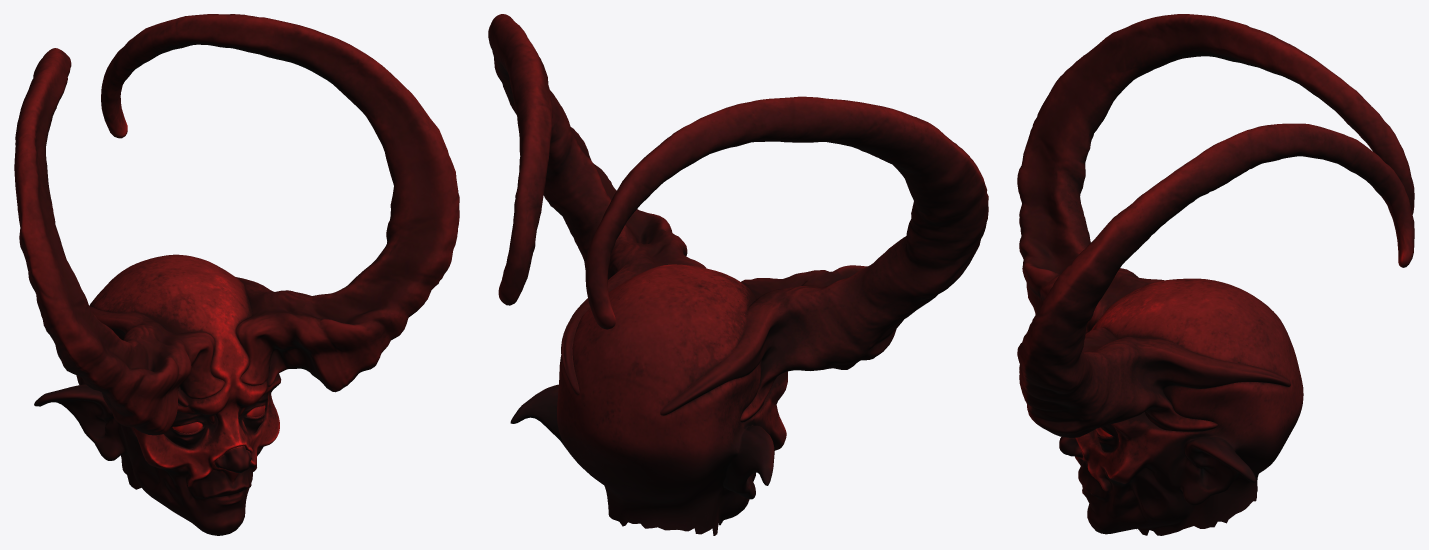
The model's file is satana.fbx.
The picture shows the model from 3 angles, left to right: view 1: azimuth 30°, elevation 25°; view 2: azimuth 150°, elevation 25°; view 3: azimuth 270°, elevation 25°; orthographic projection. The views are drawn at different scales.
Parts seen in each view (by area): view 1: fqce; view 2: fqce; view 3: fqce.
Boxes of the visible parts, x1,y1,x2,y2 form: fqce: [14, 14, 459, 535]; fqce: [488, 14, 988, 535]; fqce: [1017, 14, 1414, 535].
Size of the model in its own units: 386 by 383 by 307.
